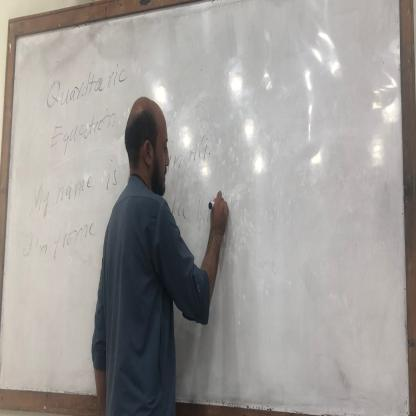Handwritten text: (11, 127, 224, 223), (4, 198, 118, 275), (32, 43, 139, 115), (34, 89, 136, 159)
Lecturer: (91, 84, 226, 416)
